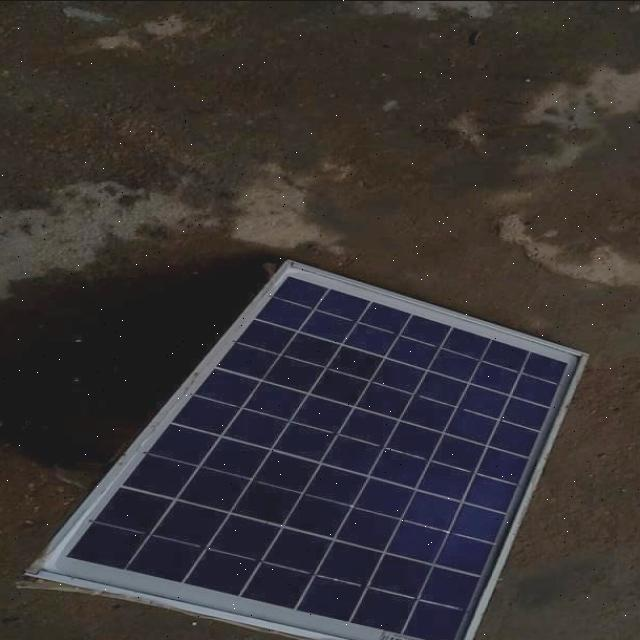Normal Solar Panel: (26, 259, 588, 640)
